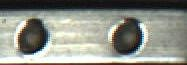joints: (9, 16, 51, 58), (107, 16, 148, 57)
